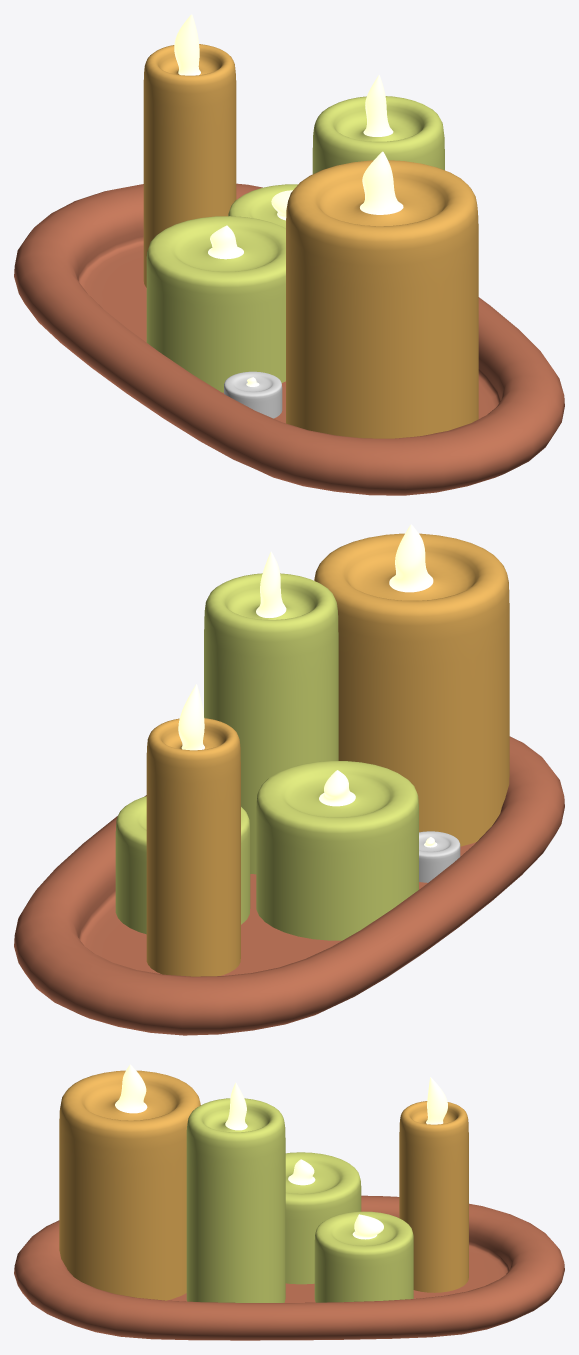
Rendered from CandleDish.fbx.
3 renders of one model, top to bottom at view 1: azimuth 30°, elevation 25°; view 2: azimuth 150°, elevation 25°; view 3: azimuth 270°, elevation 25°, orthographic. The views are drawn at different scales.
Parts seen in each view (by area): view 1: Candles, Circle.008, Circle.006, Circle.004, Circle.007, Circle.010, Circle.005; view 2: Candles, Circle.008, Circle.006, Circle.007, Circle.004, Circle.005, Circle.010; view 3: Candles, Circle.008, Circle.007, Circle.004, Circle.005, Circle.006.
Part boxes in pixels (x1,y1,x2,y2): Candles: (14,183,564,495); Circle.008: (286,151,478,438); Circle.006: (146,216,285,392); Circle.004: (143,14,236,287); Circle.007: (312,75,444,173); Circle.010: (224,371,282,418); Circle.005: (228,184,297,228); Candles: (14,736,564,1035); Circle.008: (314,524,509,846); Circle.006: (256,761,418,940); Circle.007: (204,551,338,874); Circle.004: (146,684,240,976); Circle.005: (115,796,250,934); Circle.010: (419,831,460,882); Candles: (14,1195,564,1340); Circle.008: (59,1064,200,1300); Circle.007: (186,1082,285,1302); Circle.004: (399,1077,468,1292); Circle.005: (314,1211,413,1302); Circle.006: (285,1152,361,1284).
Bounding box in the file's own units: 155 × 132 × 286.
